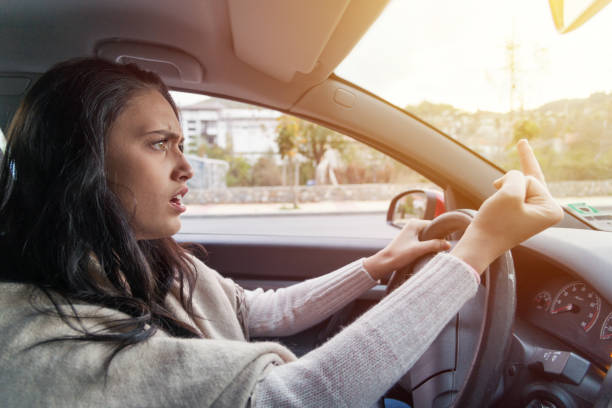insulting_gesture: (478, 134, 563, 261)
